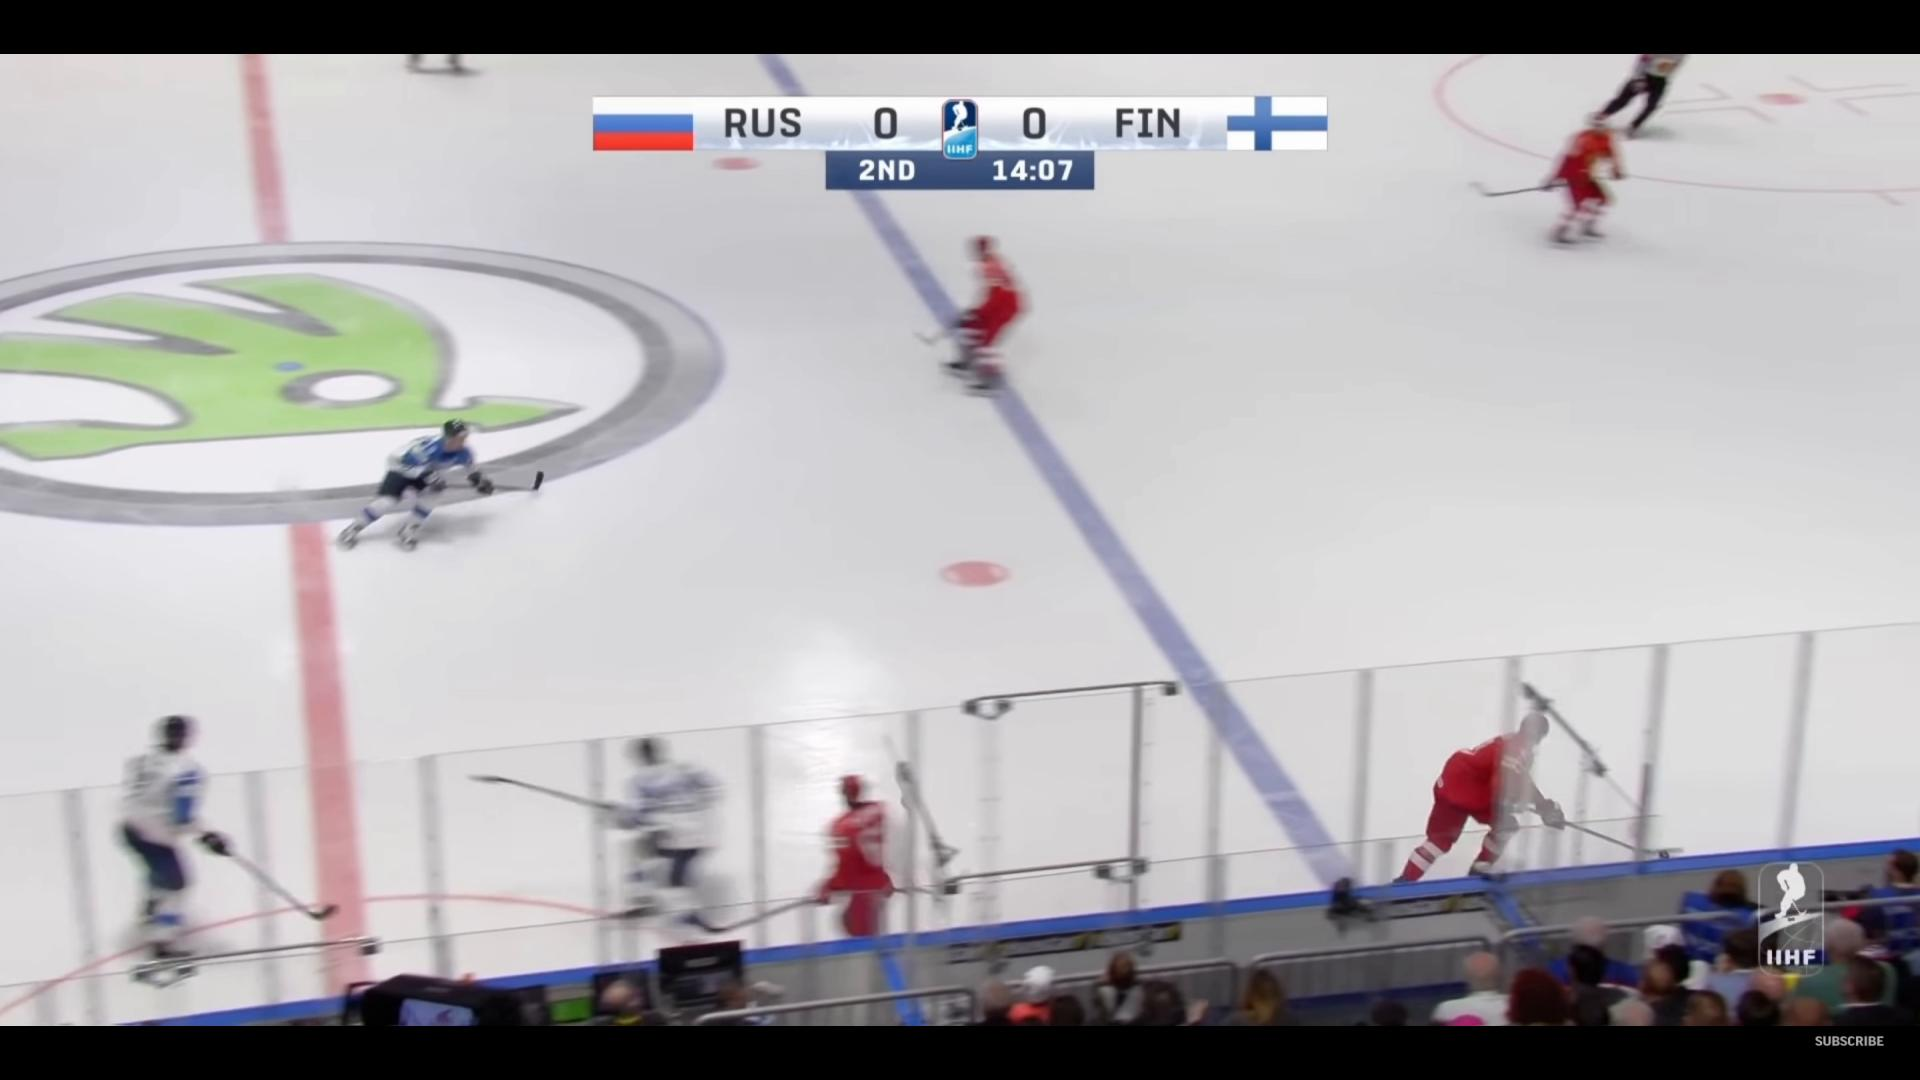puck: (1658, 851, 1669, 858)
